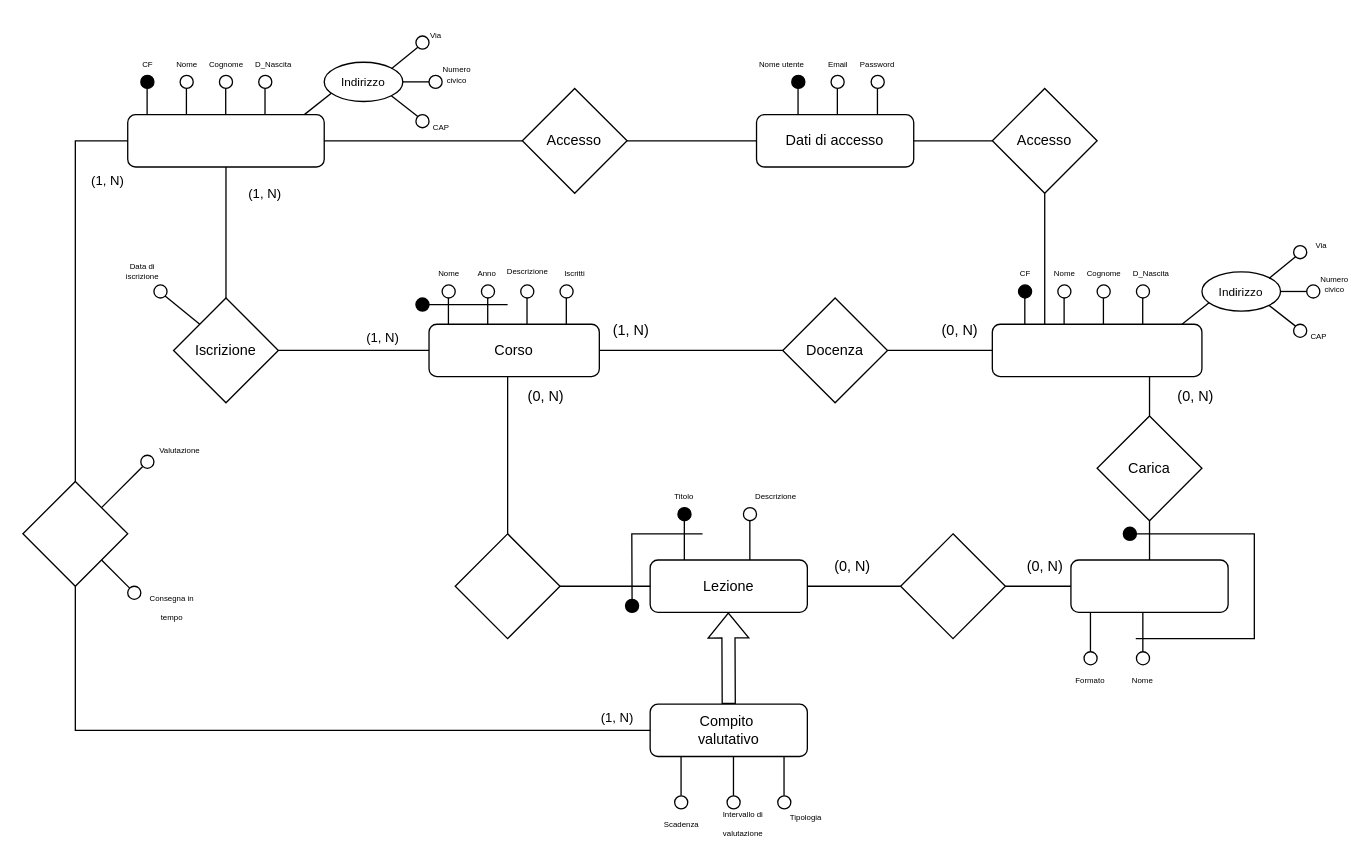
The diagram is 1372 pixels wide and 861 high, and some of its shapes have lost their labels. Each missing label, with the box of its shape:
Composto: (454, 533, 560, 639)
Docente: (991, 323, 1202, 377)
File: (1070, 559, 1228, 612)
Possiede: (899, 533, 1005, 639)
Studente: (126, 113, 324, 167)
Svolge: (22, 480, 128, 586)
